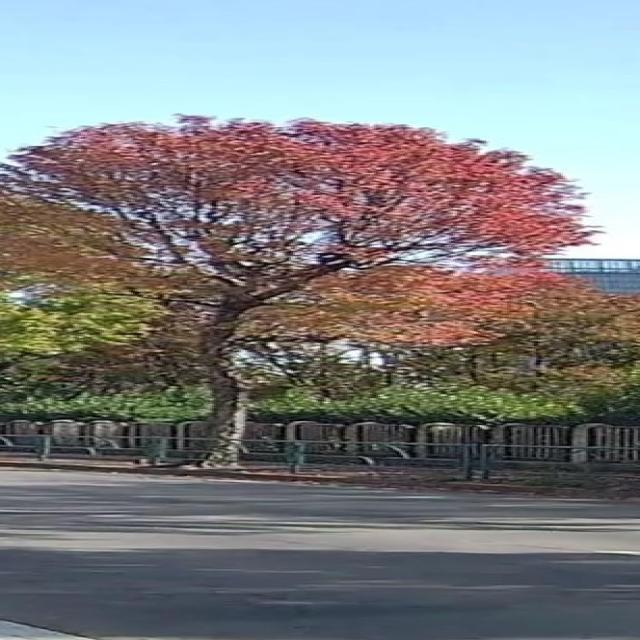maple: (0, 113, 640, 468)
